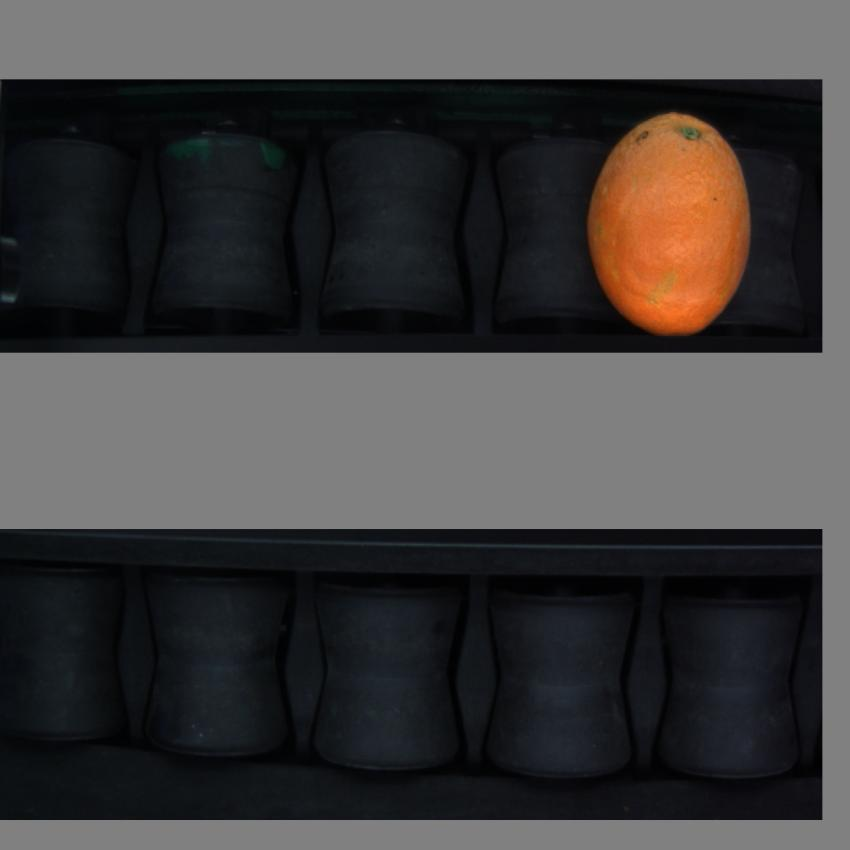Mal estado: (575, 102, 753, 346)
